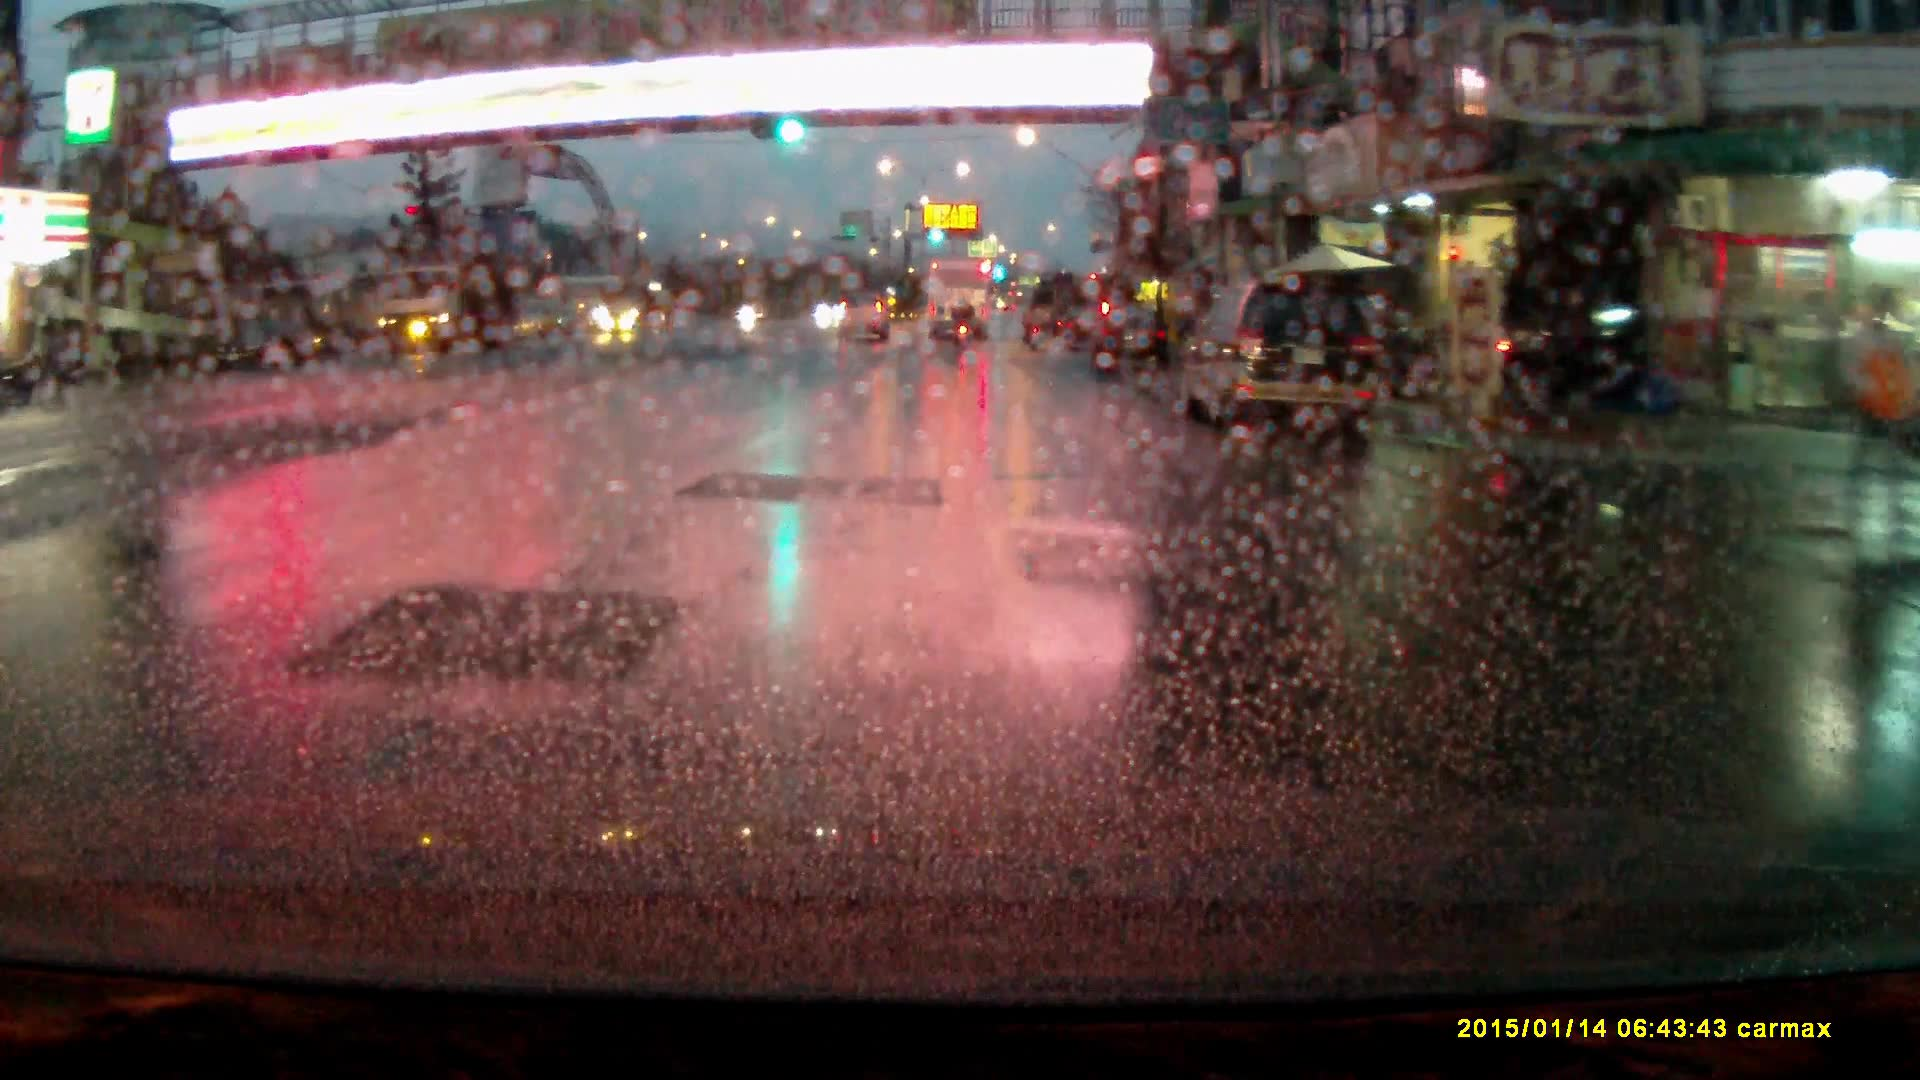rider: (950, 292, 976, 352)
vehicle: (1179, 277, 1383, 433), (1510, 290, 1643, 407), (369, 259, 512, 354), (926, 258, 993, 336), (1092, 308, 1172, 370), (600, 282, 676, 339), (838, 294, 895, 343), (1061, 304, 1107, 348)
